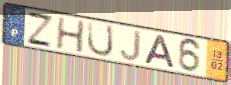6: (178, 38, 205, 74)
A: (143, 34, 176, 70)
H: (54, 16, 86, 55)
J: (119, 30, 142, 62)
U: (86, 20, 115, 58)
Z: (26, 11, 56, 50)
